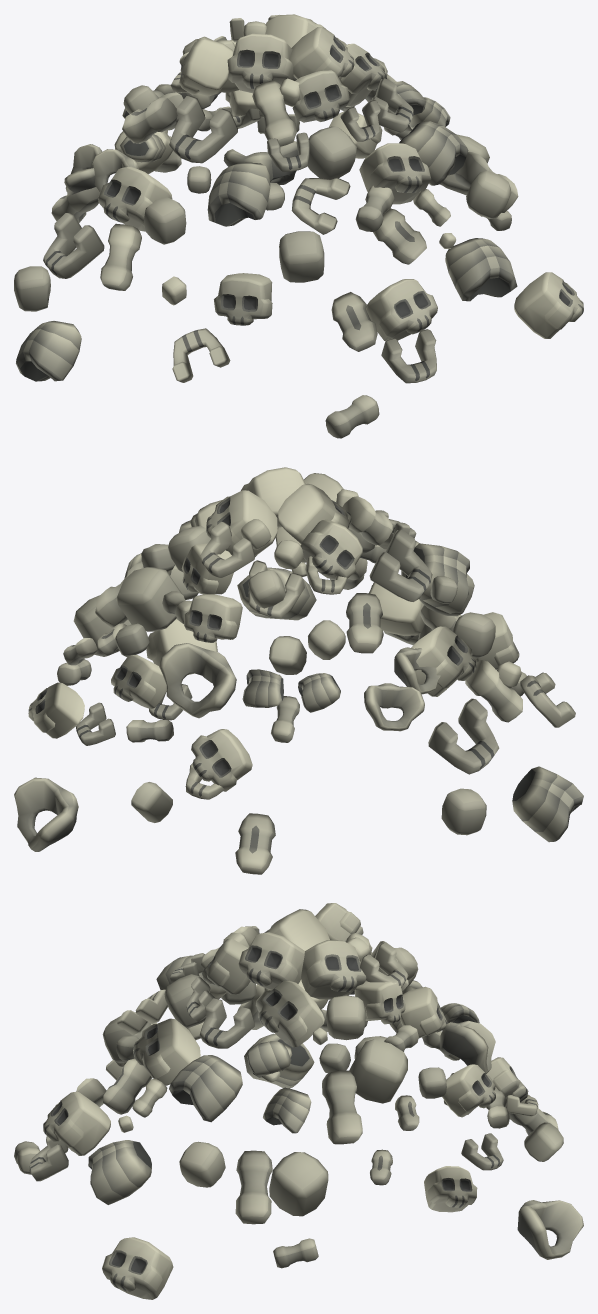
The model's file is skull_pile_large_skulls.fbx.
The picture shows the model from 3 angles, top to bottom: view 1: azimuth 30°, elevation 25°; view 2: azimuth 150°, elevation 25°; view 3: azimuth 270°, elevation 25°; orthographic projection. The views are drawn at different scales.
Visible parts, largest first — view 1: skull_pile_large_skulls; view 2: skull_pile_large_skulls; view 3: skull_pile_large_skulls.
Part boxes in pixels (left/top/right/bottom): skull_pile_large_skulls: left=14, top=14, right=583, bottom=438; skull_pile_large_skulls: left=14, top=467, right=583, bottom=874; skull_pile_large_skulls: left=14, top=903, right=583, bottom=1299.
Size of the model in its own units: 523 by 297 by 539.
